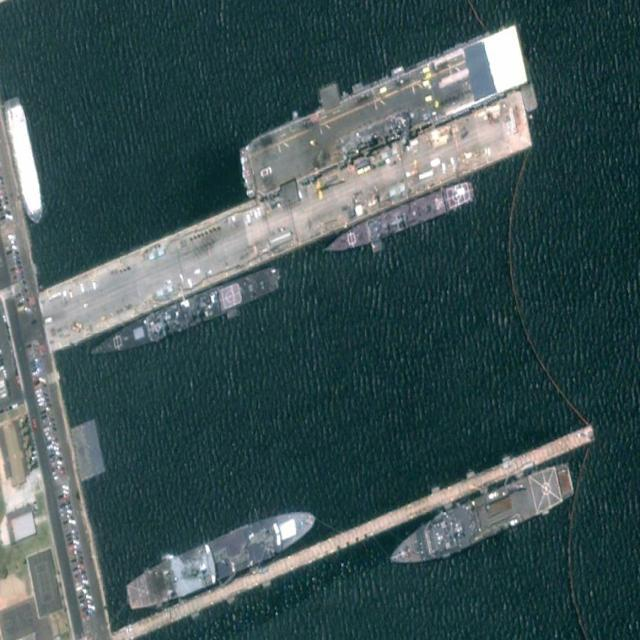Cruiser: (87, 259, 283, 369)
Frigate: (321, 176, 475, 263)
Landing: (232, 5, 530, 206)
Other Ship: (3, 93, 48, 228)
Other Warship: (123, 495, 319, 620), (383, 457, 577, 582)
